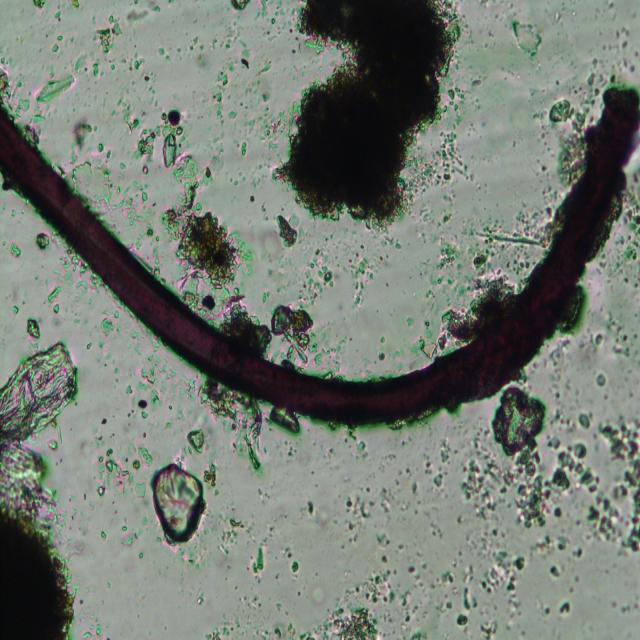Background material: (287, 0, 470, 223), (268, 227, 390, 376), (115, 83, 211, 252), (545, 402, 640, 564), (300, 556, 454, 640), (0, 500, 82, 640), (170, 193, 256, 300), (455, 449, 551, 544), (424, 270, 522, 356), (335, 467, 419, 552), (458, 542, 526, 640), (203, 380, 269, 470), (505, 180, 569, 270), (151, 465, 209, 548), (94, 436, 152, 502), (604, 175, 640, 281), (487, 388, 543, 450), (221, 291, 271, 353), (0, 69, 44, 138), (143, 348, 195, 401), (469, 214, 508, 274), (440, 68, 485, 117), (70, 156, 114, 206), (552, 124, 592, 178), (205, 67, 238, 123), (426, 228, 468, 271), (244, 109, 296, 140), (512, 12, 546, 58), (35, 73, 74, 112), (179, 276, 223, 310), (57, 251, 91, 293), (91, 10, 121, 52), (571, 70, 603, 109), (264, 226, 290, 272), (608, 312, 634, 357), (276, 210, 302, 253), (76, 120, 106, 157), (546, 341, 572, 382), (123, 0, 161, 28), (260, 0, 284, 44), (422, 458, 451, 492), (202, 614, 238, 640), (125, 51, 150, 88), (72, 56, 106, 83), (254, 66, 278, 104), (139, 367, 162, 406), (216, 514, 238, 554), (342, 430, 370, 460), (208, 128, 230, 166), (526, 531, 554, 559), (450, 4, 468, 47), (171, 547, 202, 570), (545, 99, 573, 124), (249, 545, 269, 579), (185, 31, 209, 56), (237, 592, 261, 614), (236, 39, 250, 76), (381, 230, 403, 253), (187, 426, 206, 452), (586, 326, 604, 353), (425, 517, 444, 542), (84, 615, 103, 640), (205, 460, 219, 491), (438, 434, 454, 461), (534, 110, 548, 140), (614, 23, 630, 49), (128, 327, 142, 356), (45, 287, 61, 312), (300, 499, 318, 521), (204, 160, 218, 188), (227, 0, 255, 14), (51, 28, 68, 51), (154, 39, 172, 60), (619, 595, 640, 613), (119, 530, 142, 546), (311, 582, 326, 606), (98, 318, 116, 338), (410, 342, 431, 359), (34, 231, 52, 250), (27, 318, 41, 342), (232, 173, 250, 190), (7, 242, 23, 259), (236, 134, 248, 156), (174, 448, 190, 464), (548, 564, 562, 582), (597, 368, 609, 389), (286, 622, 298, 640), (237, 519, 253, 532), (53, 427, 65, 444), (258, 488, 270, 505), (138, 399, 148, 419), (275, 620, 286, 638), (31, 0, 48, 11), (378, 350, 389, 366), (174, 404, 184, 421), (195, 588, 205, 605), (8, 302, 20, 316), (559, 601, 571, 615), (61, 0, 81, 8), (624, 59, 636, 72), (540, 600, 550, 615), (225, 32, 232, 51), (290, 562, 300, 575), (608, 72, 618, 85), (283, 546, 291, 562), (578, 113, 587, 127), (139, 517, 149, 529), (408, 314, 415, 330), (380, 334, 388, 348), (266, 523, 274, 537), (552, 390, 562, 401), (48, 438, 58, 449), (164, 420, 174, 431), (552, 10, 560, 23), (28, 342, 36, 355), (124, 385, 134, 395), (106, 356, 115, 367), (209, 38, 219, 47), (262, 630, 271, 640), (541, 162, 549, 173), (72, 316, 81, 325), (605, 0, 615, 8), (105, 579, 112, 589), (278, 602, 284, 613), (482, 0, 491, 7), (100, 532, 106, 542), (128, 408, 134, 418), (98, 341, 104, 351), (99, 417, 106, 425), (120, 524, 128, 531), (86, 342, 92, 350), (114, 312, 120, 319), (274, 571, 278, 580), (143, 431, 147, 439), (227, 564, 231, 572), (297, 590, 301, 598), (233, 585, 238, 591), (140, 552, 144, 559), (285, 611, 289, 616), (114, 368, 118, 373)
Cellulose filter fibre: (0, 338, 74, 503)
Microfibre: (0, 74, 640, 438)
